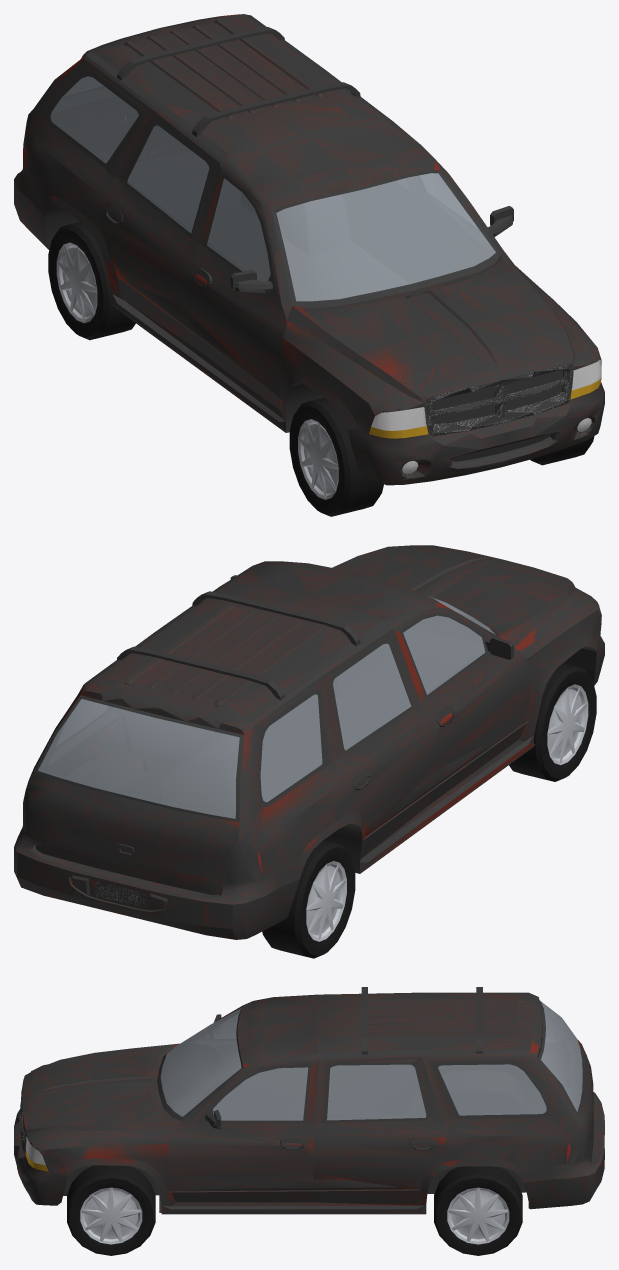
The model's file is SUV2.FBX.
3 views of the same model, one above another, from view 1: azimuth 30°, elevation 25°; view 2: azimuth 150°, elevation 25°; view 3: azimuth 270°, elevation 25° (orthographic). The views are drawn at different scales.
Parts seen in each view (by area): view 1: SUV2_Body, Wheel_FR, Wheel_RR001, SUV2_HeadlightGlasses, SUV2_IndicatorLights, Wheel_FL; view 2: SUV2_Body, Wheel_RR001, Wheel_FR; view 3: SUV2_Body, Wheel_FL, Wheel_RL.
Boxes of the visible parts, x1,y1,x2,y2 form: SUV2_Body: (14, 14, 604, 485); Wheel_FR: (289, 397, 383, 516); Wheel_RR001: (48, 222, 135, 340); SUV2_HeadlightGlasses: (371, 359, 601, 430); SUV2_IndicatorLights: (369, 378, 601, 438); Wheel_FL: (530, 436, 594, 465); SUV2_Body: (14, 545, 604, 939); Wheel_RR001: (262, 840, 355, 958); Wheel_FR: (509, 663, 596, 781); SUV2_Body: (14, 987, 604, 1214); Wheel_FL: (67, 1165, 155, 1255); Wheel_RL: (434, 1166, 522, 1255).
Bounding box in the file's own units: 198 × 472 × 175.
